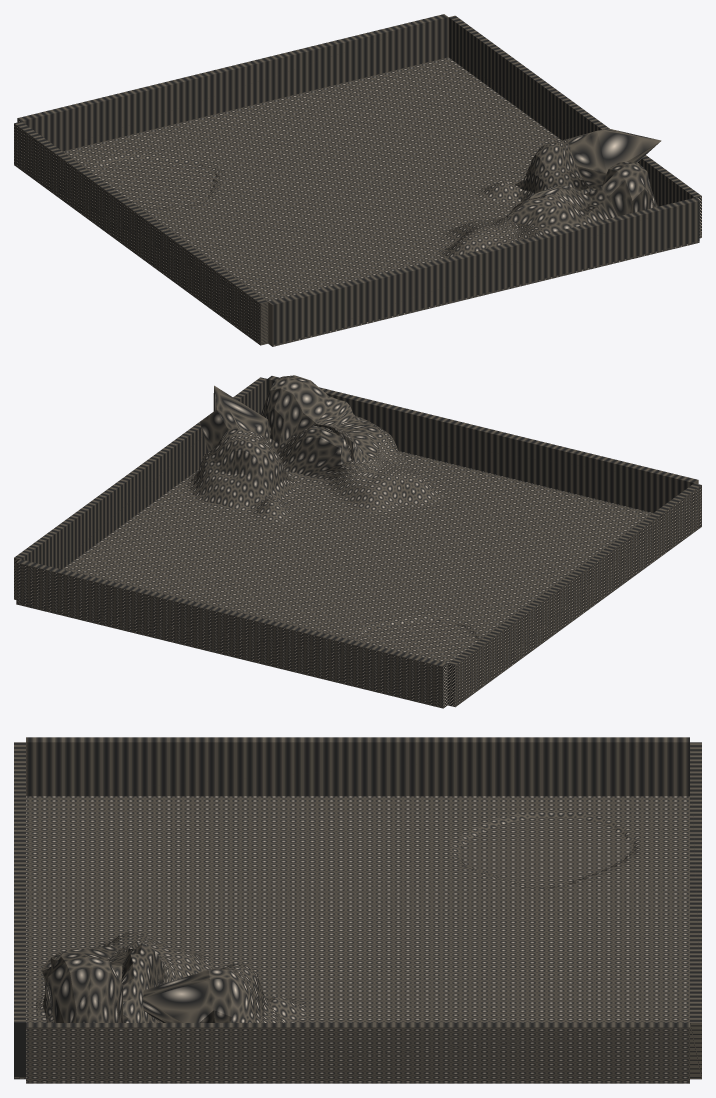
Rendered from CurrentWorld.gltf.
The picture shows the model from 3 angles, top to bottom: view 1: azimuth 30°, elevation 25°; view 2: azimuth 150°, elevation 25°; view 3: azimuth 270°, elevation 25°; orthographic projection. The views are drawn at different scales.
Visible parts, largest first — view 1: Cube; view 2: Cube; view 3: Cube.
Boxes of the visible parts, x1,y1,x2,y2 form: Cube: (14, 14, 701, 346); Cube: (14, 375, 701, 708); Cube: (14, 737, 701, 1083).
Size of the model in its own units: 523 by 92.55 by 520.
1 material, 1 textured.
